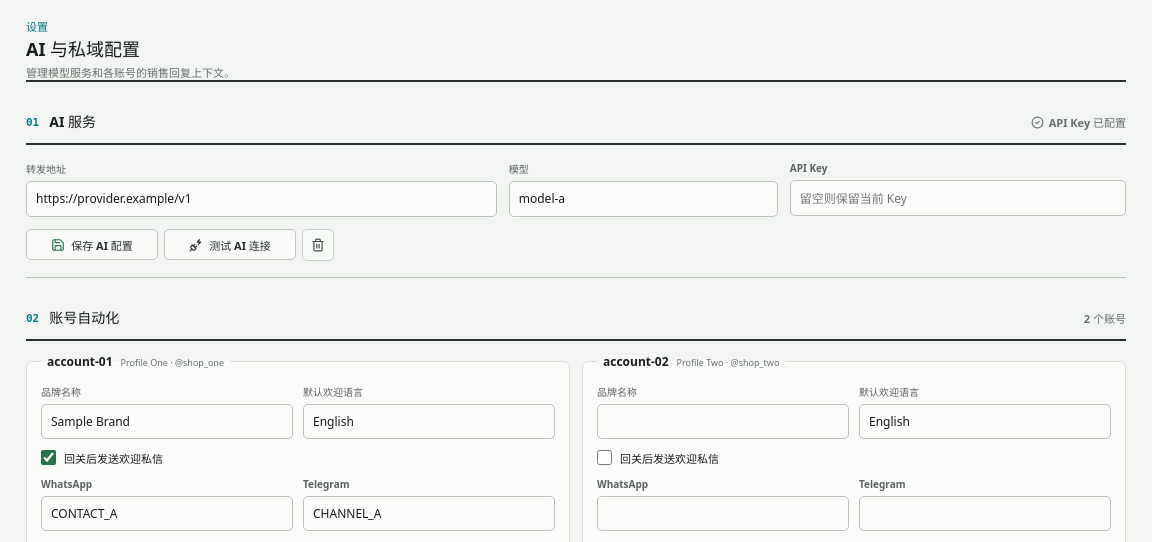
it: tests the saved provider and reports only model and latency
Click the button "测试 AI 连接" at [230, 244], box [164,229,296,260]
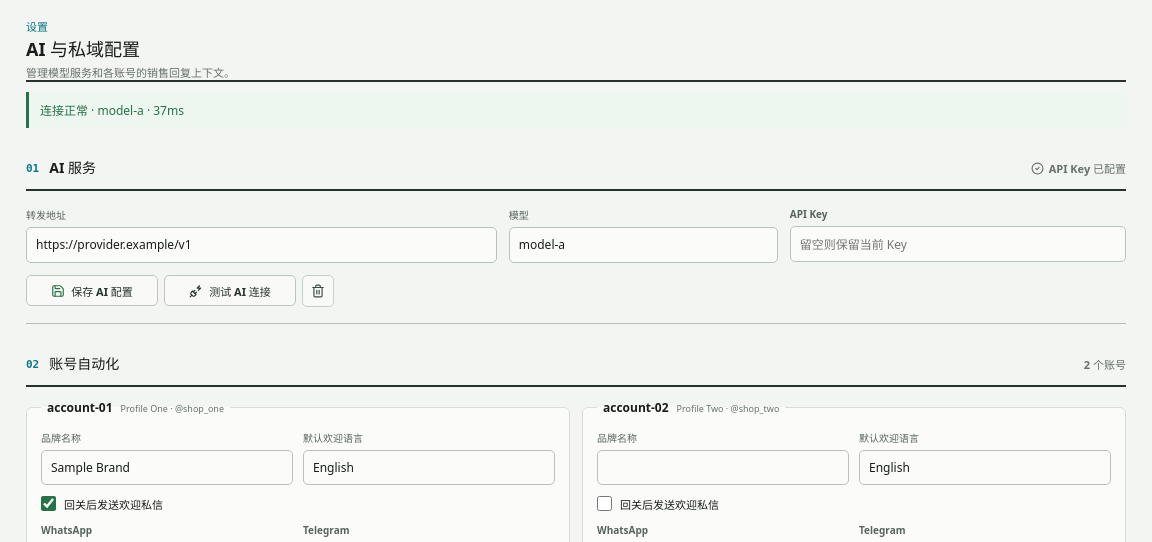
Expected: the text "连接正常 · model-a · 37ms" is shown, [26,92,1126,128]
